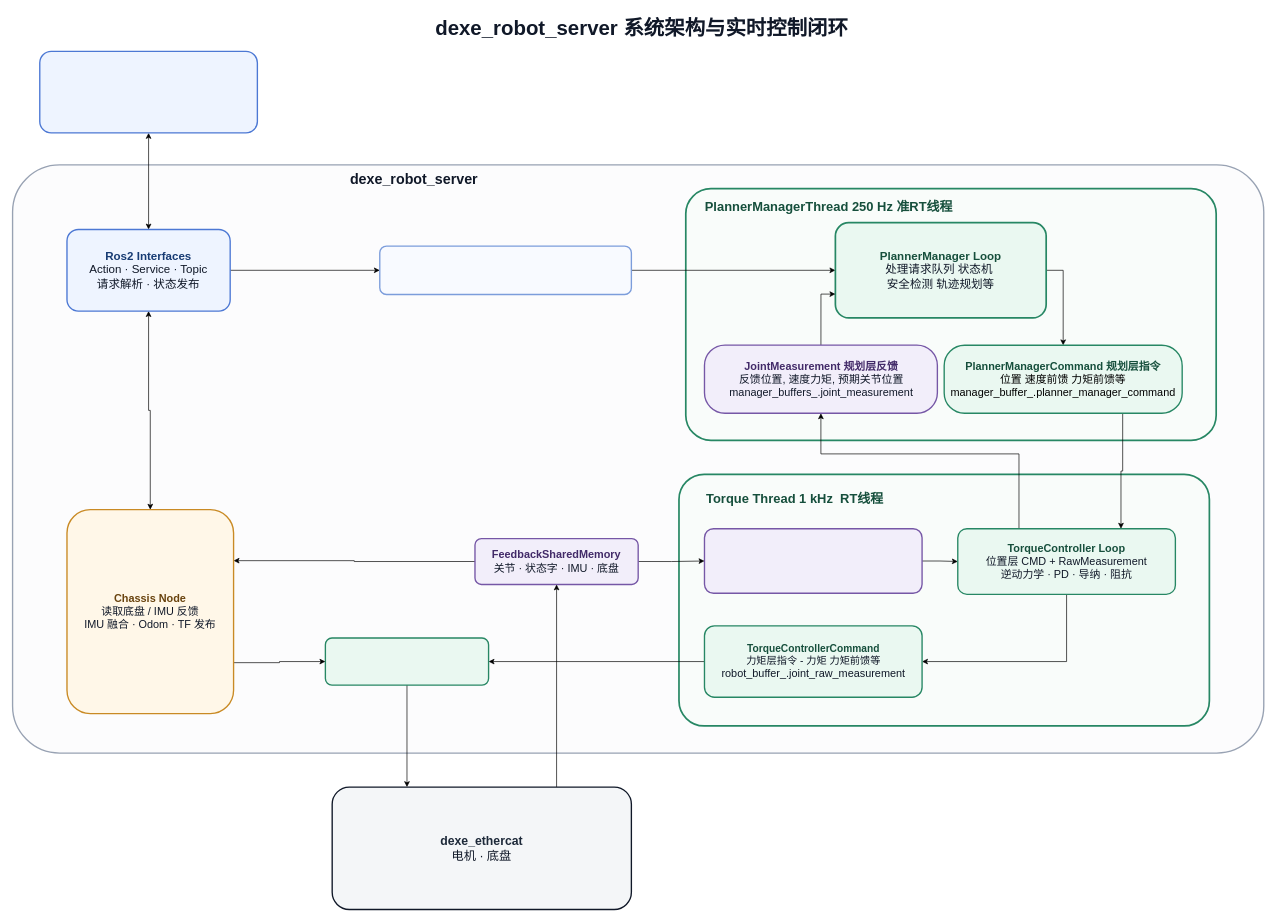
This 1276x921 diagram has some shape labels left out. The box of each missing label's shape, as (x1, y1, x2, y2) in pixels:
ControlSharedMemory 位置 · 速度 · 力矩 控制字 · 底盘: (324, 637, 489, 685)
JointRawMeasurement 力矩层原始关节反馈 robot_buffer_.torque_controller_command: (703, 528, 922, 594)
Request压入有序队列 manager_buffers_.request_queue->EnQueue(): (379, 245, 632, 295)
上游 Client robot client · chassis client: (39, 50, 258, 133)
